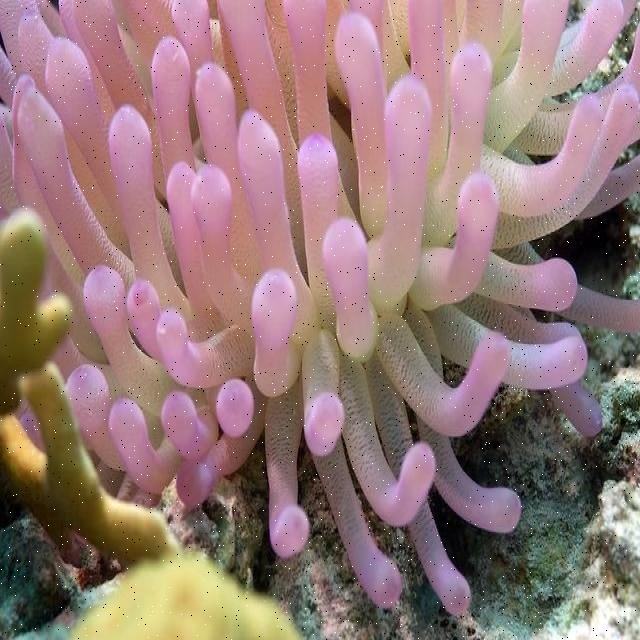reefs: (0, 0, 639, 617), (0, 218, 307, 639)
